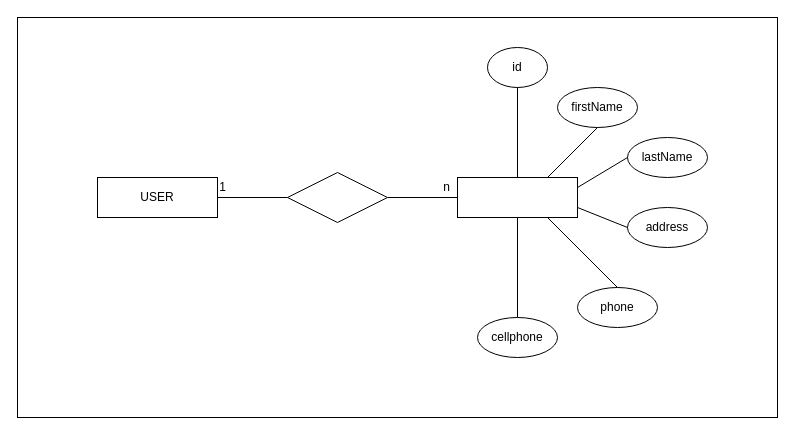
Some shapes in this 795 by 435 pixel diagram are drawn without their labels. Each missing label, with the centre of its shape:
"CONTACT" goes at point 517,197.
"TIENE" goes at point 337,197.
